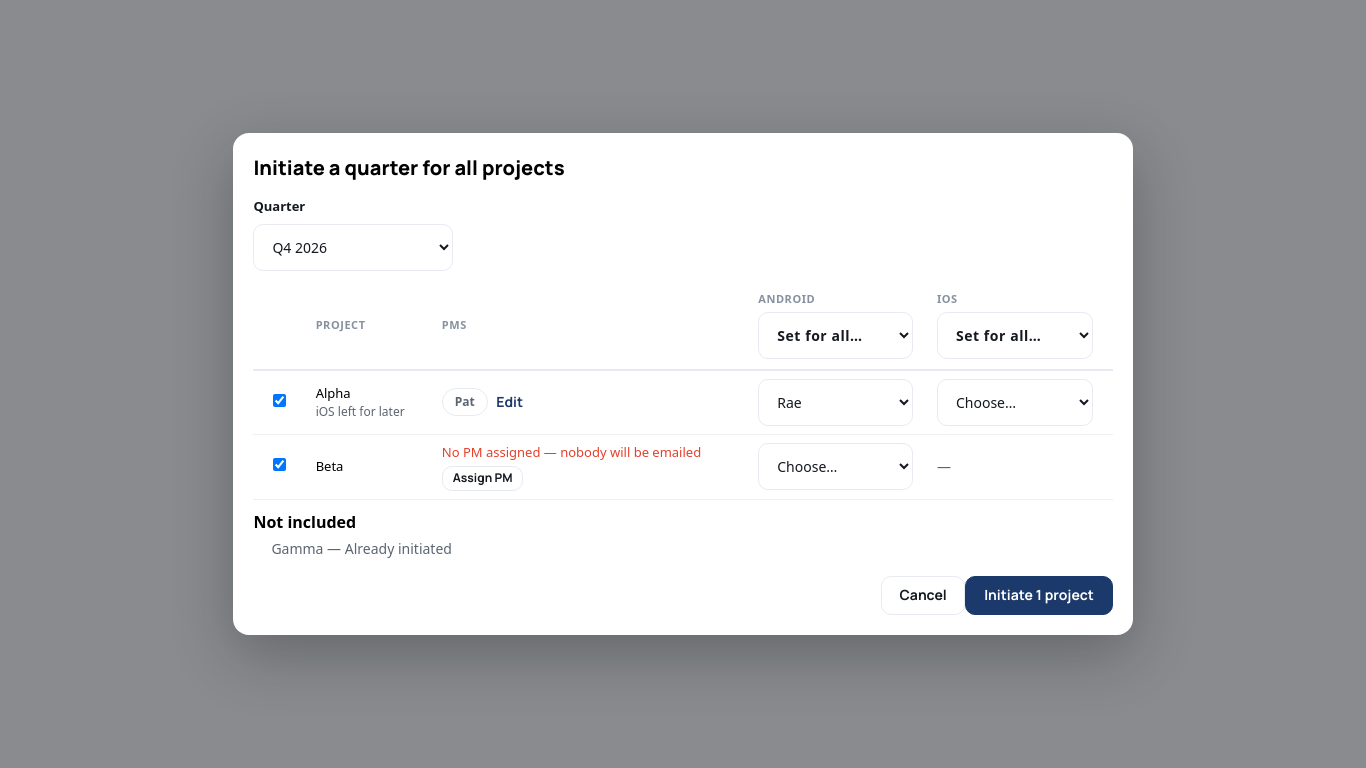
it: existing PMs can be changed from the dialog
Click the button with aria-label "Edit PMs for Alpha". click: (510, 402)
box: left=492, top=383, right=527, bottom=422
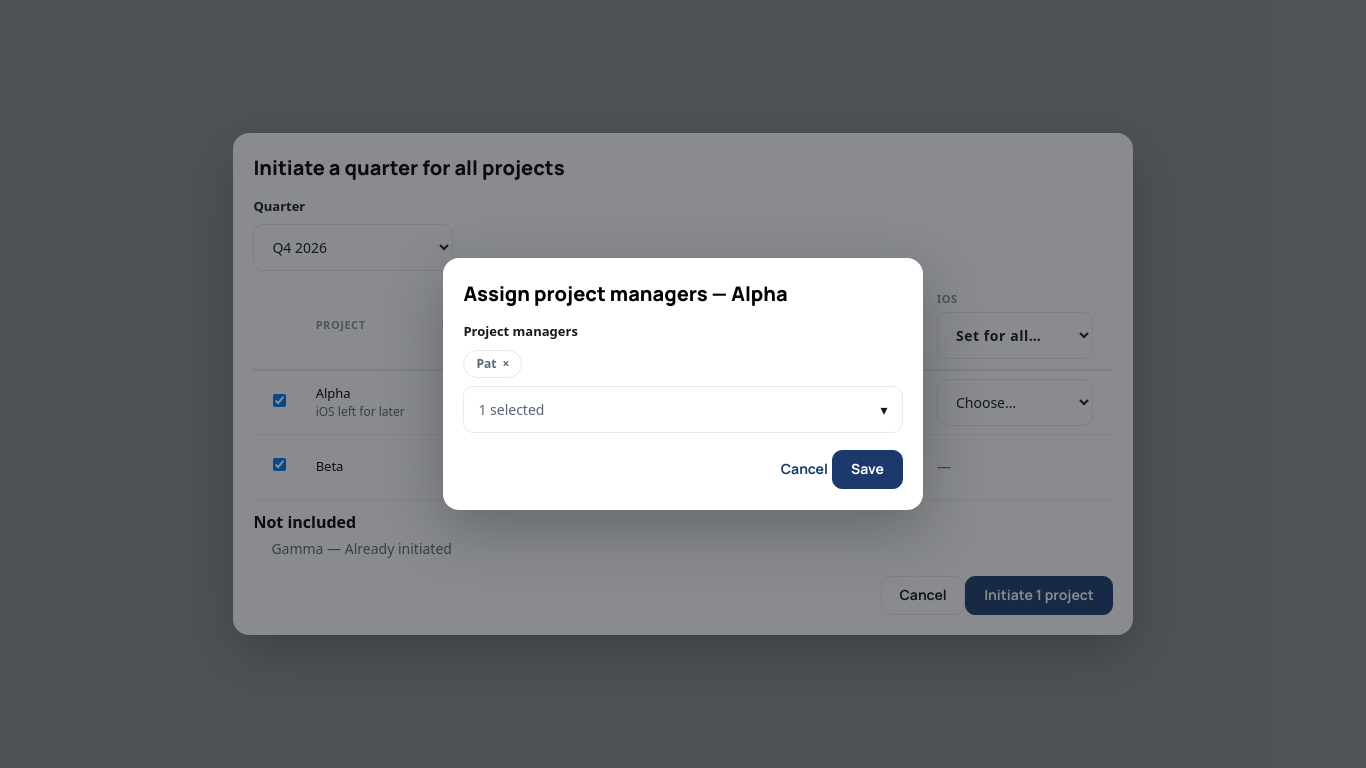
Click the button with aria-label "Project managers". click: (511, 409)
box: left=463, top=386, right=903, bottom=433
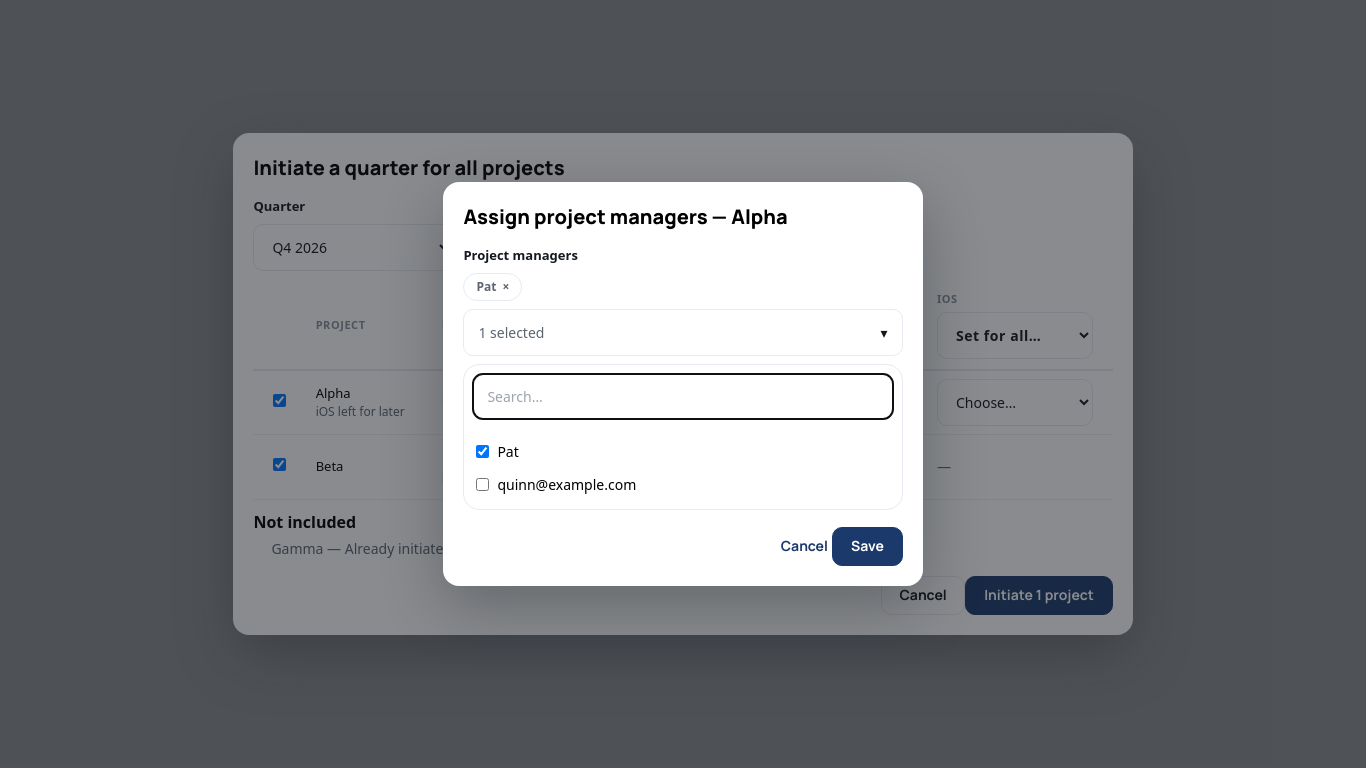
Expected: the checkbox labelled "Pat" is checked, left=476, top=445, right=489, bottom=458
